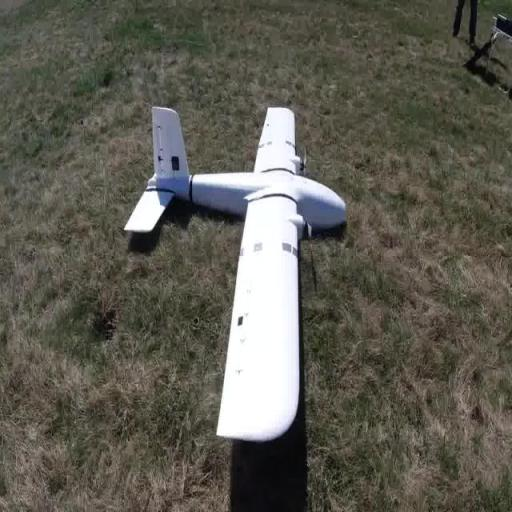uav: (121, 88, 350, 453)
